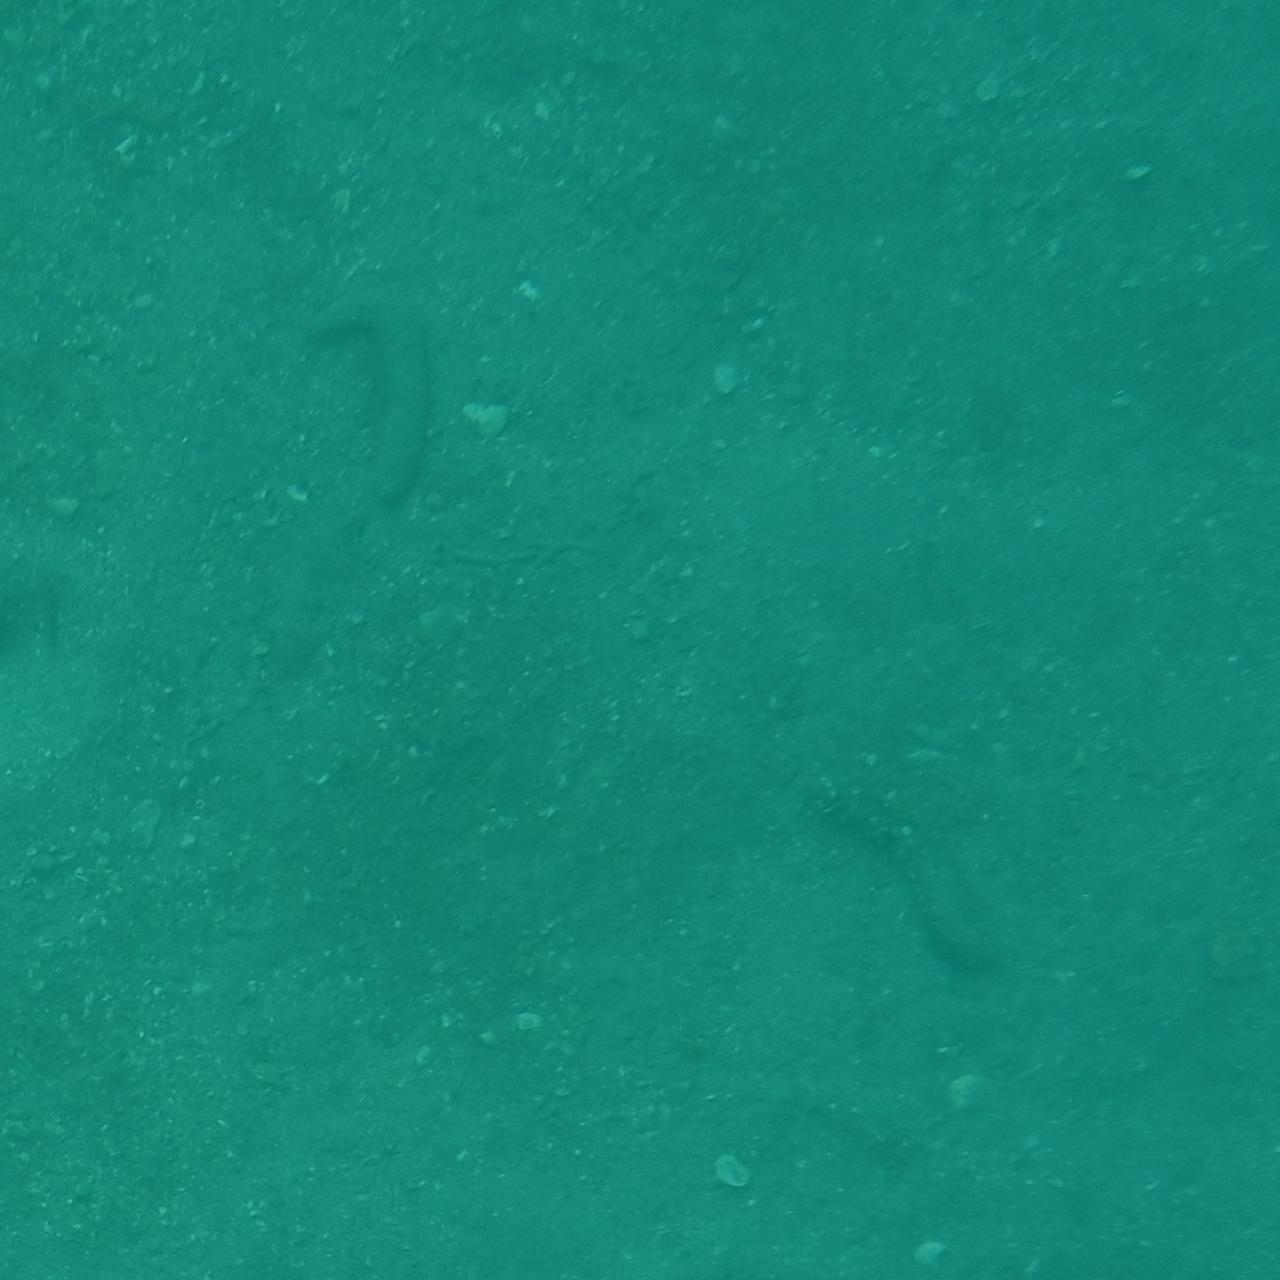Holothuria tubulosa: (797, 736, 1037, 978), (291, 280, 437, 566)
